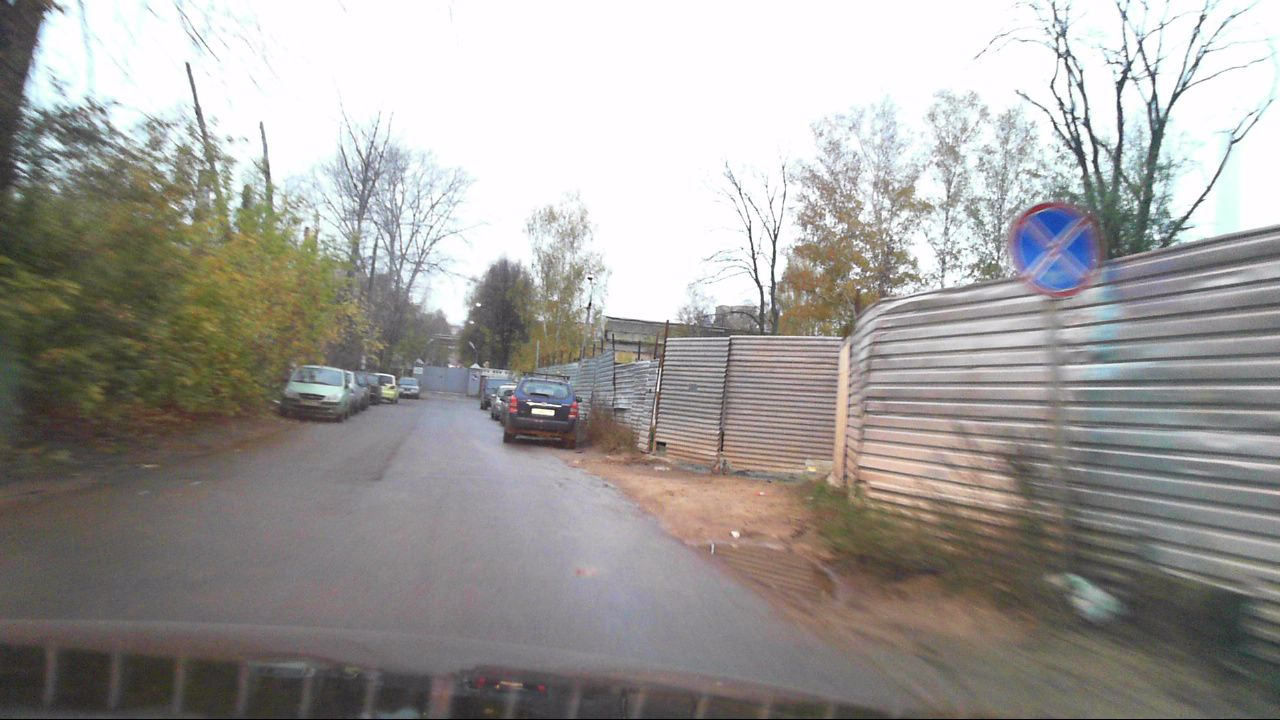No Parking: (1013, 203, 1102, 298)
